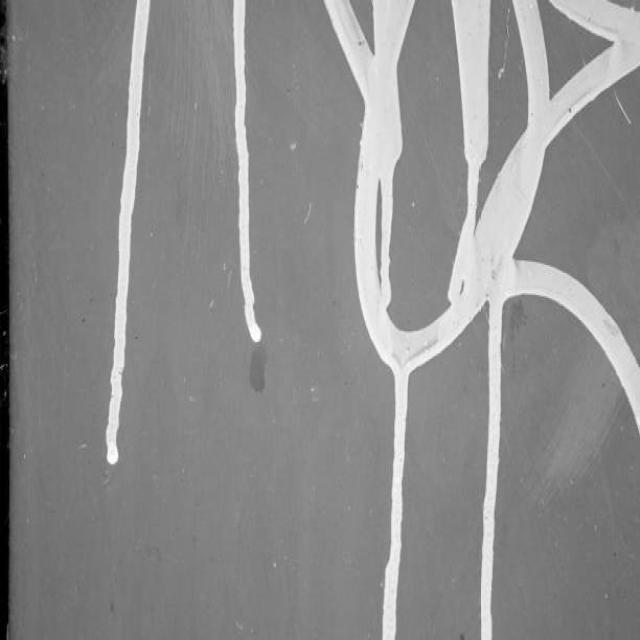paint drips: (98, 0, 152, 474), (216, 0, 278, 353), (376, 354, 421, 640), (475, 292, 508, 640), (372, 171, 394, 323)
